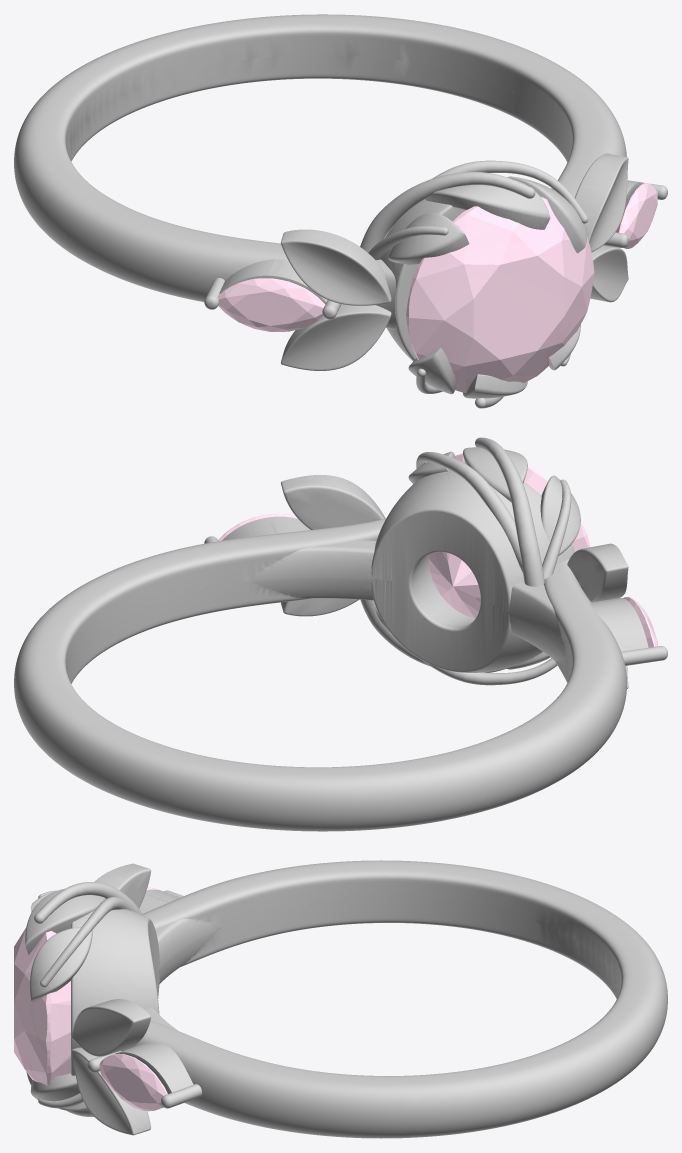
File: LastRing.glb
3 views of the same model, one above another, from view 1: azimuth 30°, elevation 25°; view 2: azimuth 150°, elevation 25°; view 3: azimuth 270°, elevation 25° (orthographic). The views are drawn at different scales.
Visible parts, largest first — view 1: Metal, Gem_M, Gem_r, Gem_l; view 2: Metal, Gem_M; view 3: Metal, Gem_M, Gem_l.
Part boxes in pixels (bbox=[...]): Metal: bbox=[14, 14, 667, 408]; Gem_M: bbox=[406, 196, 594, 393]; Gem_r: bbox=[218, 278, 325, 331]; Gem_l: bbox=[616, 183, 657, 248]; Metal: bbox=[14, 437, 667, 831]; Gem_M: bbox=[429, 453, 589, 618]; Metal: bbox=[25, 860, 667, 1138]; Gem_M: bbox=[14, 928, 70, 1085]; Gem_l: bbox=[99, 1053, 167, 1111].
Size of the model in its own units: 2.47 by 1.03 by 2.84.
